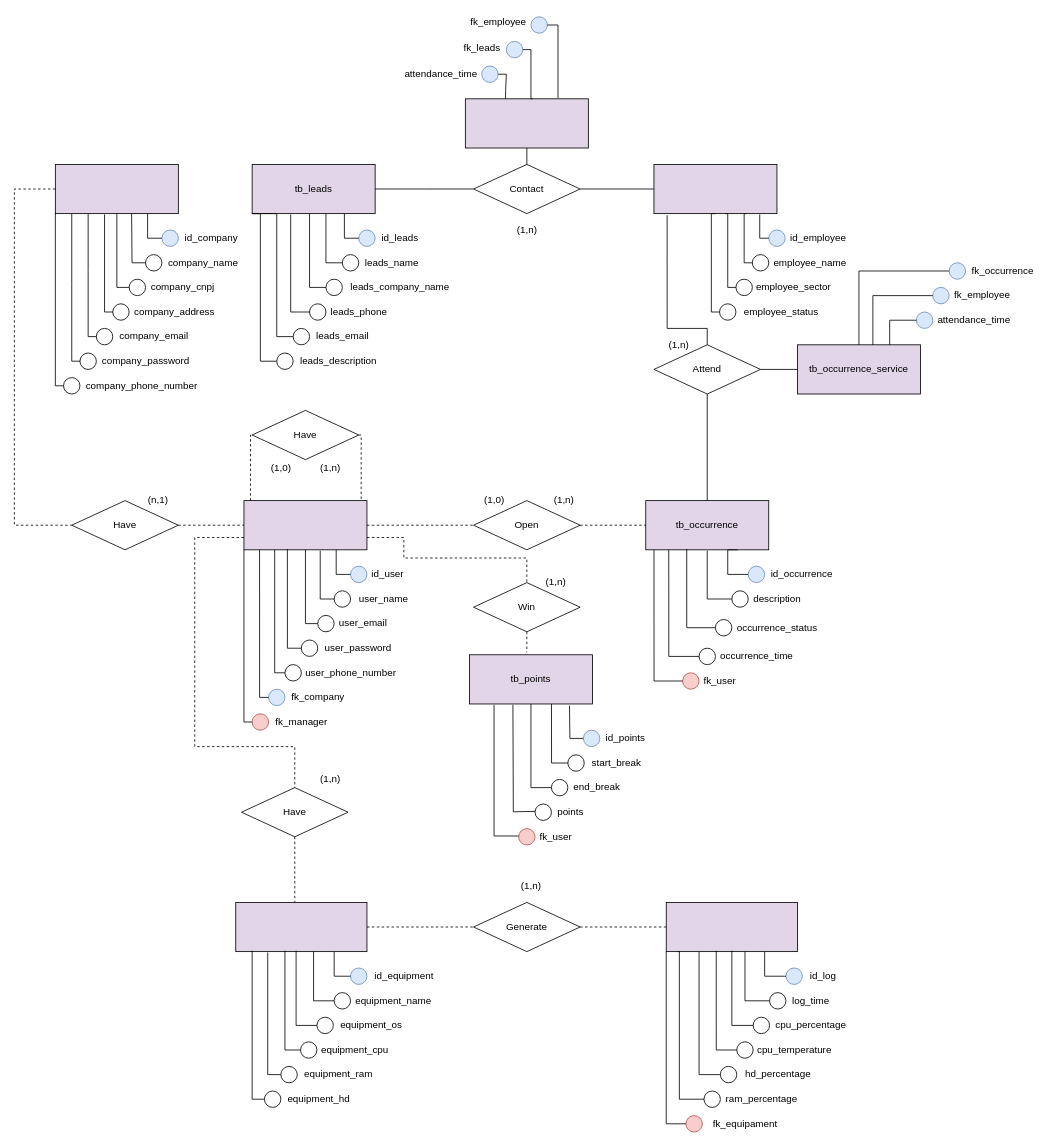
This 1054x1146 diagram has some shape labels left out. Here are the shapes that lost their labels. From the top down, the centre of each, then its label:
At point (526, 123): "tb_leads_service".
At point (116, 189): "tb_company".
At point (715, 189): "tb_employee".
At point (305, 525): "tb_user".
At point (301, 927): "tb_equipment".
At point (731, 927): "tb_computer_log".
